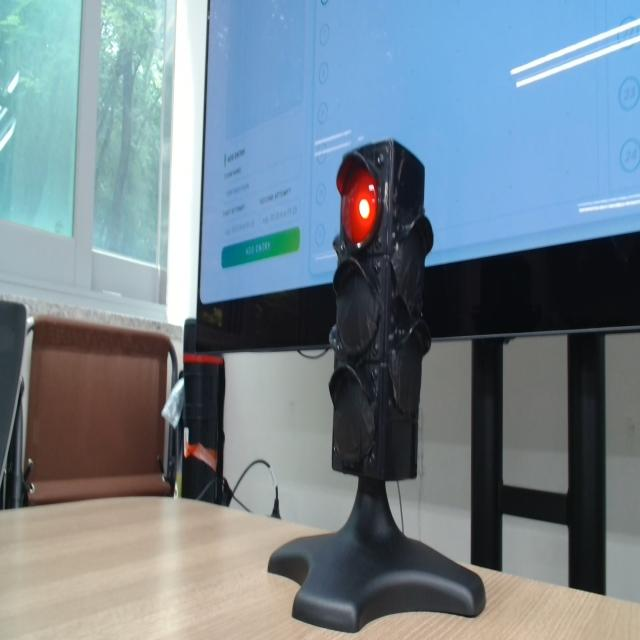red_light: (338, 166, 377, 247)
